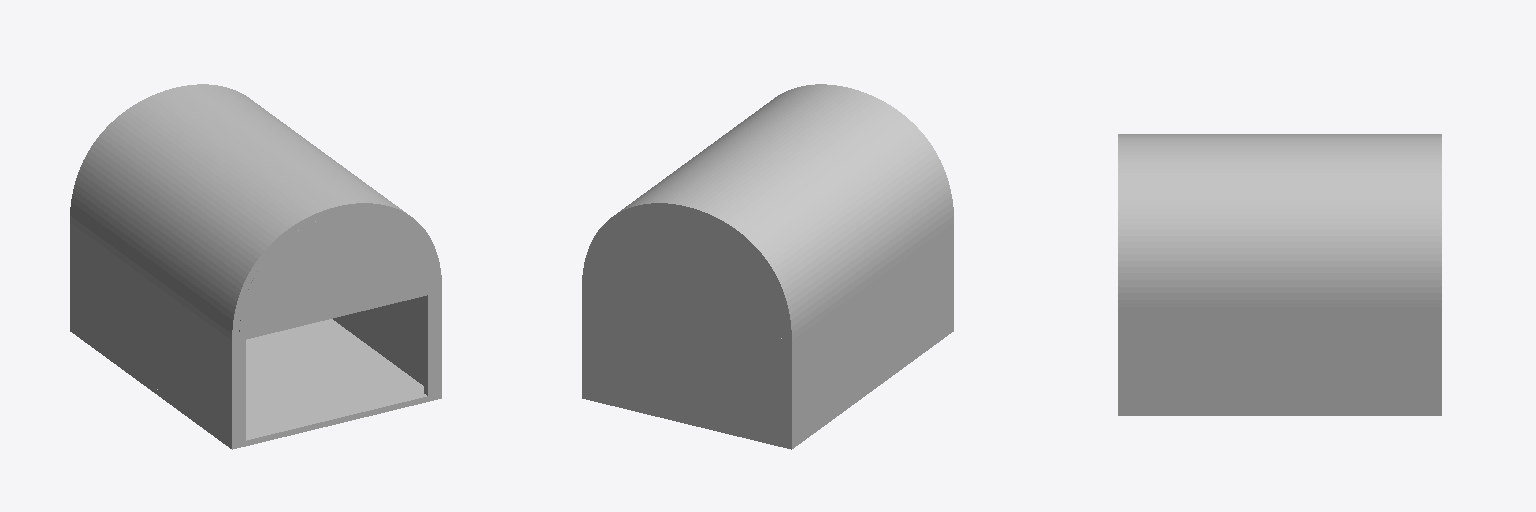
The picture shows the model from 3 angles: view 1: azimuth 30°, elevation 25°; view 2: azimuth 150°, elevation 25°; view 3: azimuth 270°, elevation 25°; orthographic projection.
Visible parts, largest first — view 1: object_30, object_28, object_31, object_25, object_26, object_36, object_35; view 2: object_30, object_27, object_28, object_29, object_25; view 3: object_30, object_26, object_25, object_27.
Part boxes in pixels (left/top/right/bottom): object_30: left=70, top=84, right=441, bottom=340; object_28: left=74, top=226, right=238, bottom=443; object_31: left=239, top=211, right=434, bottom=338; object_25: left=70, top=319, right=441, bottom=449; object_26: left=333, top=290, right=441, bottom=393; object_36: left=424, top=294, right=434, bottom=395; object_35: left=239, top=340, right=245, bottom=441; object_30: left=582, top=84, right=953, bottom=340; object_27: left=582, top=290, right=795, bottom=443; object_28: left=796, top=223, right=953, bottom=440; object_29: left=589, top=211, right=784, bottom=338; object_25: left=582, top=326, right=953, bottom=449; object_30: left=1118, top=134, right=1441, bottom=306; object_26: left=1118, top=307, right=1433, bottom=409; object_25: left=1118, top=410, right=1441, bottom=415; object_27: left=1434, top=307, right=1441, bottom=409.
Size of the model in its own units: 7.97 by 7.88 by 10.66.